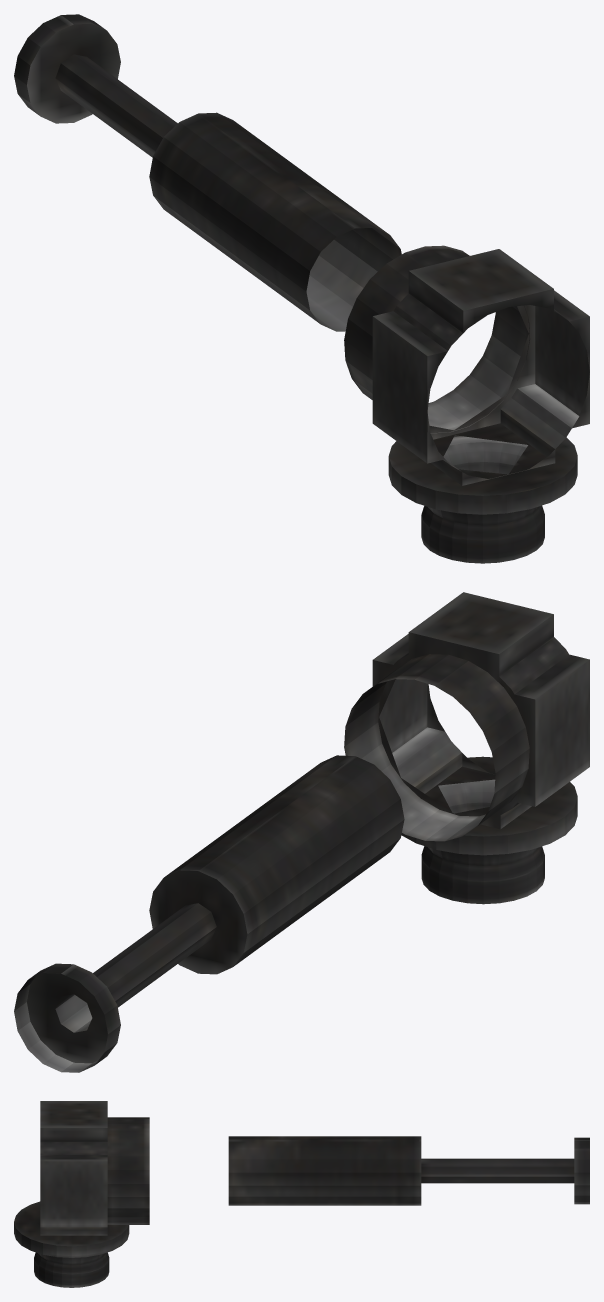
3 renders of one model, top to bottom at view 1: azimuth 30°, elevation 25°; view 2: azimuth 150°, elevation 25°; view 3: azimuth 270°, elevation 25°, orthographic. The views are drawn at different scales.
Parts seen in each view (by area): view 1: TW_661cec09b2c6356b4d0c7a36_PZ_Import; view 2: TW_661cec09b2c6356b4d0c7a36_PZ_Import; view 3: TW_661cec09b2c6356b4d0c7a36_PZ_Import.
Part boxes in pixels (<box>): TW_661cec09b2c6356b4d0c7a36_PZ_Import: <box>14,14,589,563</box>; TW_661cec09b2c6356b4d0c7a36_PZ_Import: <box>14,592,589,1072</box>; TW_661cec09b2c6356b4d0c7a36_PZ_Import: <box>14,1101,589,1287</box>.
Bounding box in the file's own units: 0.0112 × 0.0555 × 0.0167.
1 material, 1 textured.
